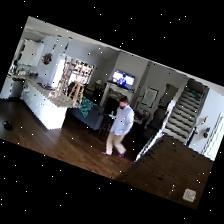person: (101, 97, 133, 156), (117, 74, 125, 86)
